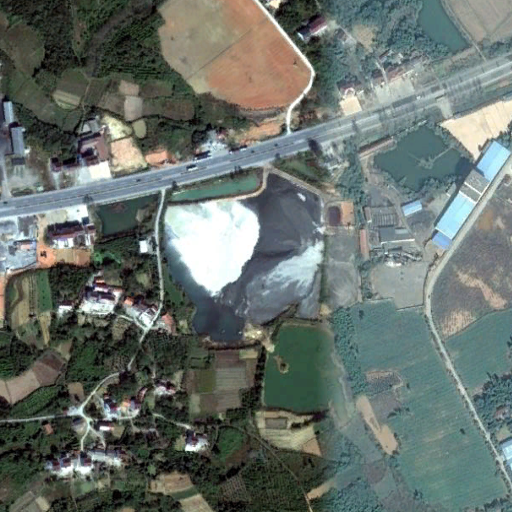tp: (162, 165, 326, 343)
